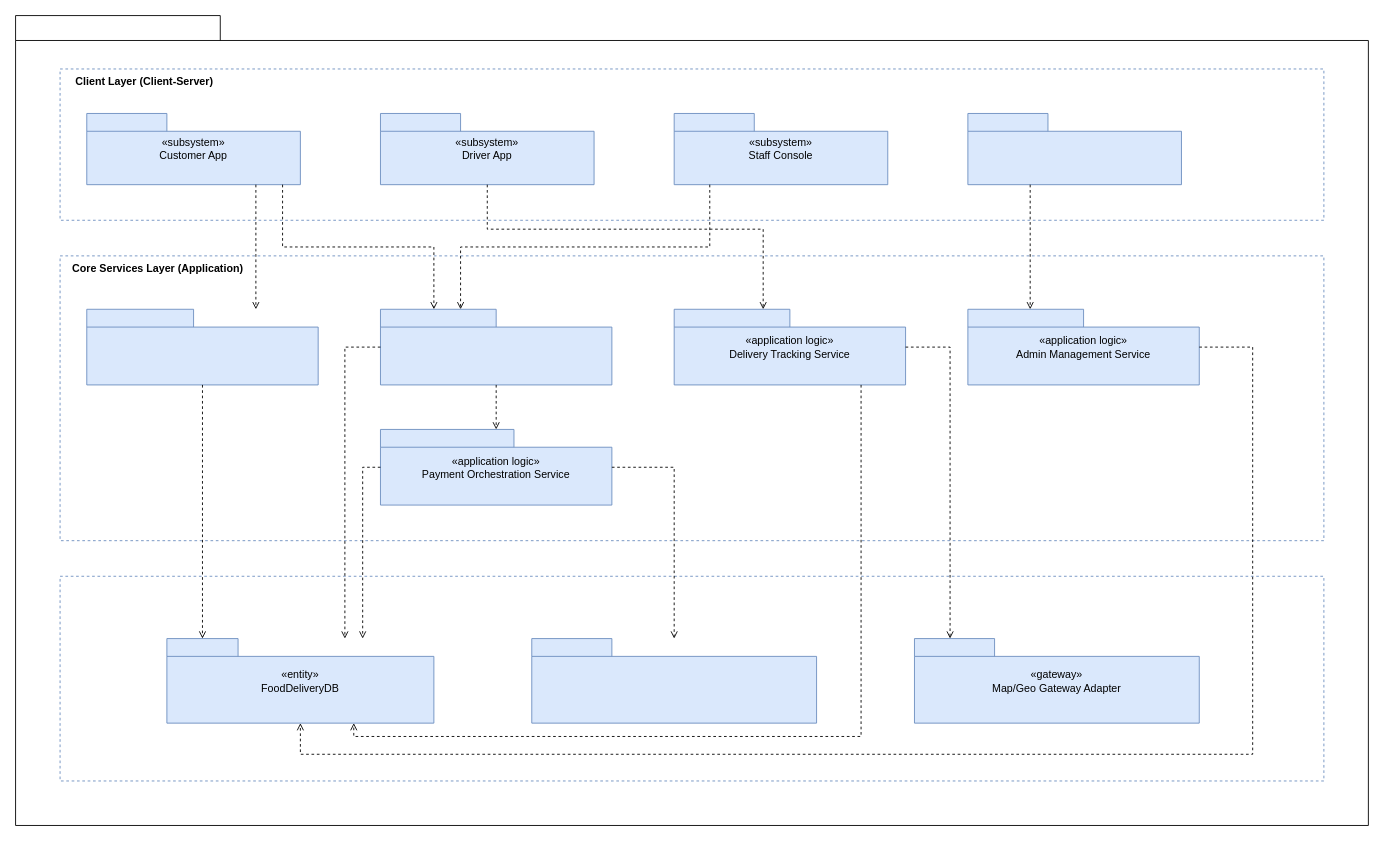
This 1384x841 diagram has some shape labels left out. The shapes that lost their labels are listed below. From the top down, each one's box as (x1, y1, x2, y2) in pixels, then its label:
(967, 113, 1181, 185): «subsystem» Admin Console
(86, 308, 318, 385): «application logic» User & Access Service
(380, 308, 612, 385): «application logic» Order Management Service
(531, 638, 817, 723): «gateway» Payment Gateway Adapter
